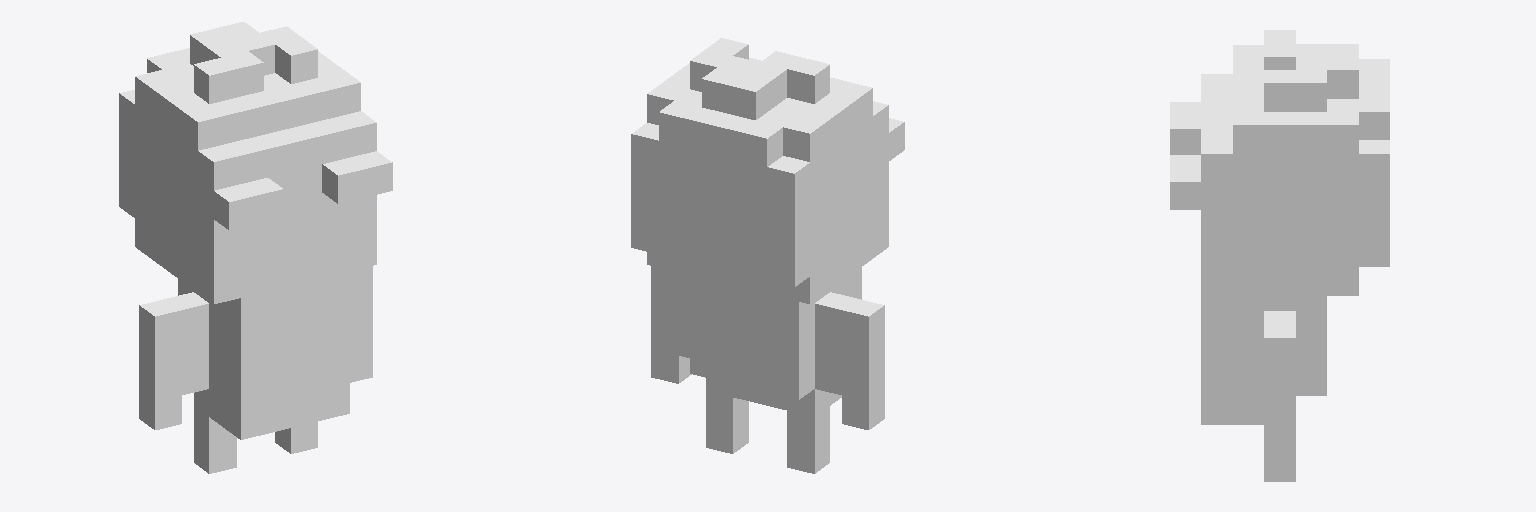
Rendered from chr_thomas.obj.
The picture shows the model from 3 angles: view 1: azimuth 30°, elevation 25°; view 2: azimuth 150°, elevation 25°; view 3: azimuth 270°, elevation 25°; orthographic projection.
Visible parts, largest first — view 1: chr_thomas; view 2: chr_thomas; view 3: chr_thomas.
Boxes of the visible parts, <box> form: chr_thomas: <box>119,22,392,473</box>; chr_thomas: <box>631,38,904,473</box>; chr_thomas: <box>1170,30,1389,481</box>.
Size of the model in its own units: 8 by 14 by 7.